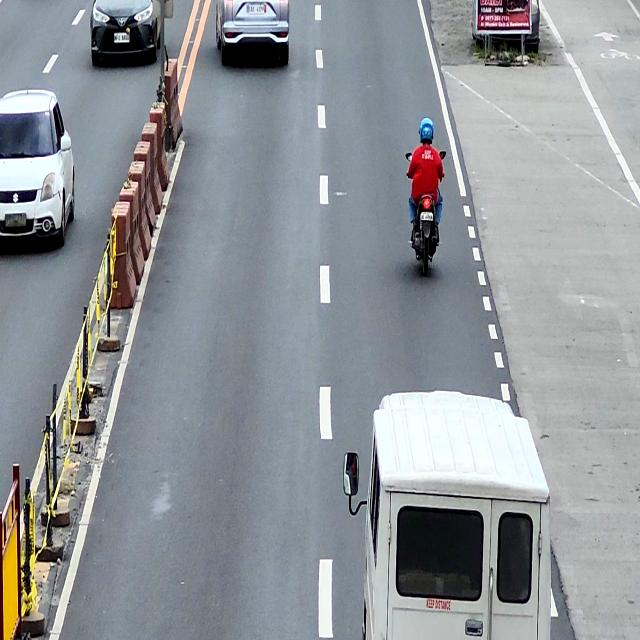Car: (342, 389, 551, 640), (0, 87, 75, 251), (215, 0, 290, 68), (90, 0, 162, 67)
License-Plate: (4, 214, 27, 228), (247, 3, 265, 15), (114, 33, 130, 43), (420, 211, 433, 221)
Motorcycle: (406, 150, 446, 276)
